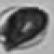correct: (0, 5, 49, 52)
